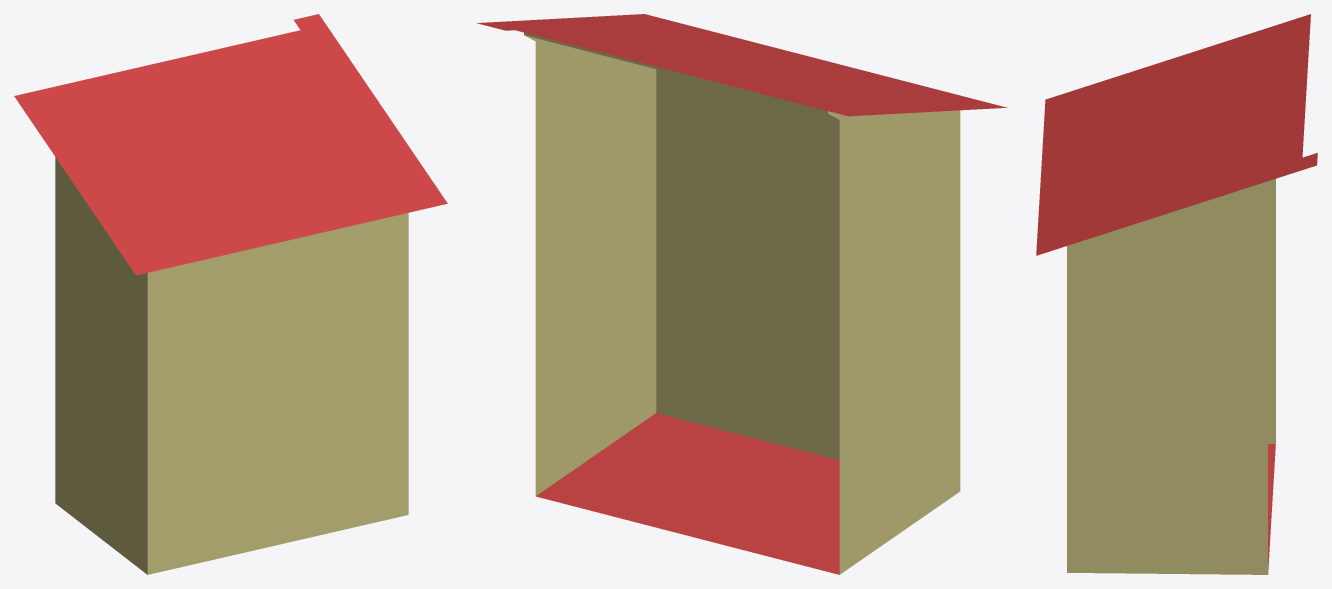
The picture shows the model from 3 angles, left to right: view 1: azimuth 30°, elevation 25°; view 2: azimuth 150°, elevation 25°; view 3: azimuth 270°, elevation 25°; orthographic projection. The views are drawn at different scales.
Bounding box in the file's own units: 6.25 × 4.67 × 7.73.
